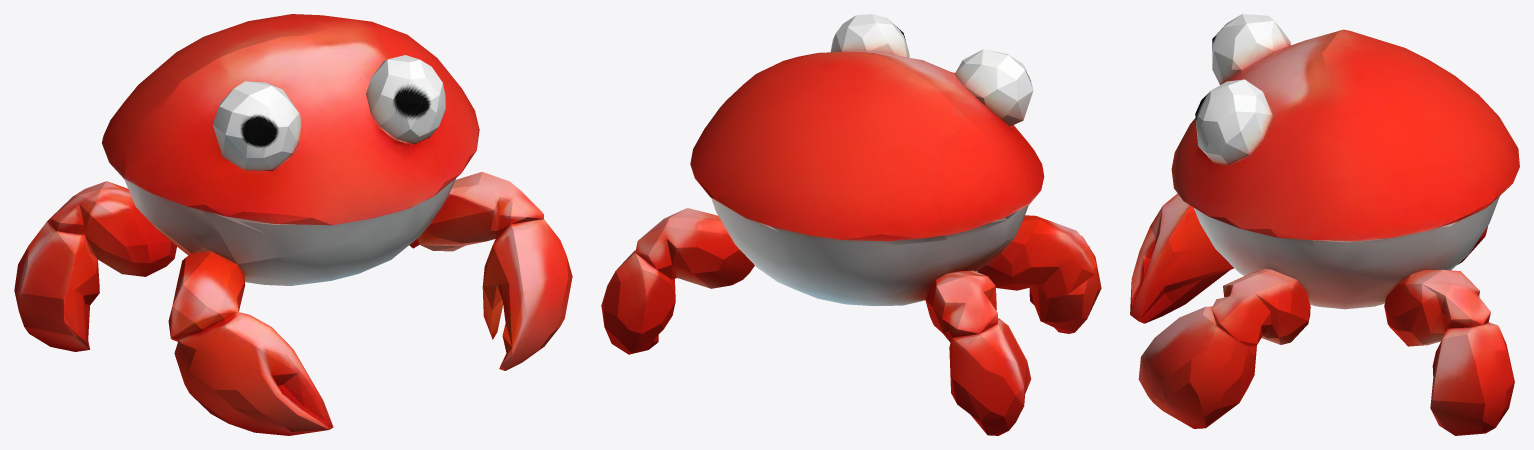
File: crab.glb
3 renders of one model, left to right at view 1: azimuth 30°, elevation 25°; view 2: azimuth 150°, elevation 25°; view 3: azimuth 270°, elevation 25°, orthographic. The views are drawn at different scales.
Parts seen in each view (by area): view 1: model; view 2: model; view 3: model.
Part boxes in pixels (x1=…): model: x1=14, y1=14, x2=572, y2=435; model: x1=601, y1=14, x2=1101, y2=435; model: x1=1130, y1=14, x2=1519, y2=435.
Bounding box in the file's own units: 1.9 × 1.34 × 1.53.
1 material, 1 textured.
